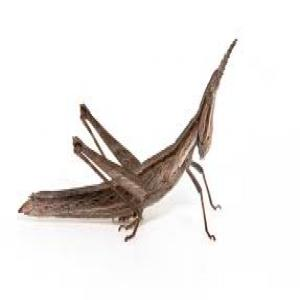locust: (12, 76, 235, 257)
